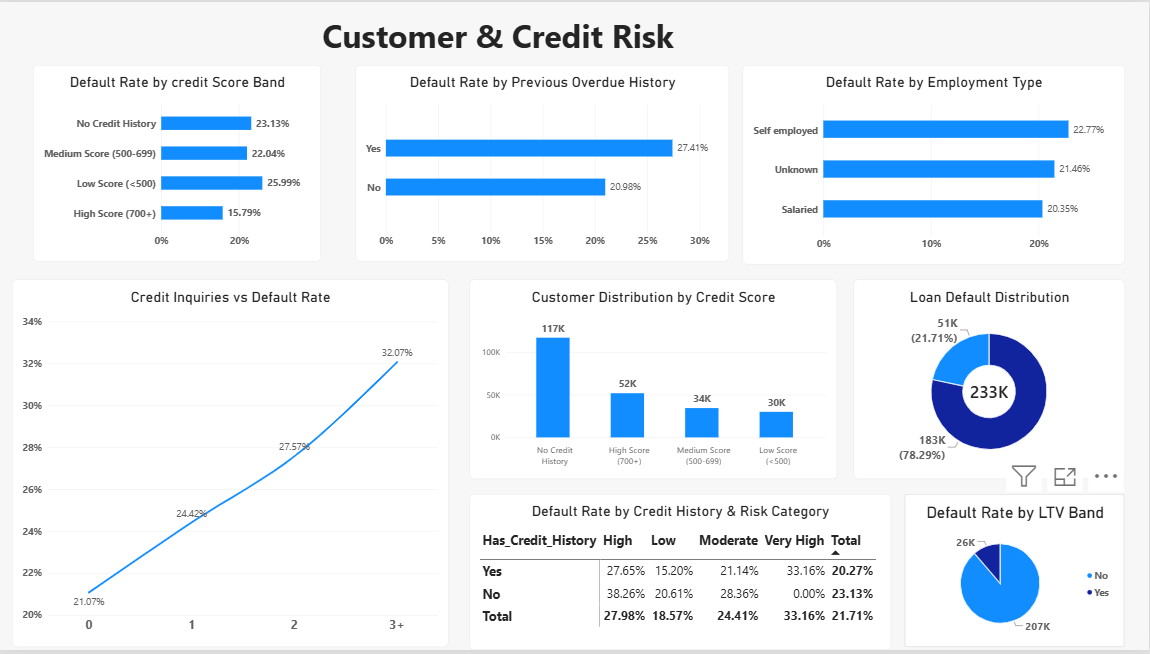

What the dashboard file says about the page in this screenshot:
{"tool":"powerbi","page":{"name":"Customer & Credit Risk","canvas":[1920,1080],"ordinal":1},"visuals":[{"type":"textbox","box":[82.5,20,1505,85],"z":0},{"type":"clusteredBarChart","title":"Default Rate by credit Score Band","fields":{"Category":["vehicle_loan_analysis.Credit Score Band"],"Y":["vehicle_loan_analysis.Default Rate"]},"box":[60,105,480,327.5],"z":1000},{"type":"clusteredBarChart","title":"Default Rate by Previous Overdue History","fields":{"Category":["vehicle_loan_analysis.Has_Previous_Overdue"],"Y":["vehicle_loan_analysis.Default Rate"]},"box":[597.5,105,622.5,327.5],"z":2000},{"type":"pivotTable","title":"Default Rate by Credit History & Risk Category","fields":{"Columns":["vehicle_loan_analysis.Risk_Category"],"Rows":["vehicle_loan_analysis.Has_Credit_History"],"Values":["vehicle_loan_analysis.Default Rate"]},"box":[787.5,820,702.5,260],"z":3000},{"type":"lineChart","title":"Credit Inquiries vs Default Rate","fields":{"Category":["vehicle_loan_analysis.Credit Inquiry Band"],"Y":["vehicle_loan_analysis.Default Rate"]},"box":[25,462.5,727.5,612.5],"z":4000},{"type":"clusteredBarChart","title":"Default Rate by Employment Type","fields":{"Category":["vehicle_loan_analysis.Employment.Type"],"Y":["vehicle_loan_analysis.Default Rate"]},"box":[1242.5,105,637.5,332.5],"z":5000},{"type":"donutChart","title":"Loan Default Distribution","fields":{"Category":["vehicle_loan_analysis.loan_default"],"Y":["vehicle_loan_analysis.Total Loans"]},"box":[1427.5,462.5,452.5,332.5],"z":6000},{"type":"columnChart","title":"Customer Distribution by Credit Score","fields":{"Category":["vehicle_loan_analysis.Credit Score Band"],"Y":["vehicle_loan_analysis.Total Loans"]},"box":[787.5,462.5,612.5,332.5],"z":7000},{"type":"pieChart","title":"Previous Overdue No/Yes","fields":{"Category":["vehicle_loan_analysis.Has_Previous_Overdue"],"Y":["vehicle_loan_analysis.Total Loans"]},"box":[1512.5,820,367.5,255],"z":8000}]}

Visuals, with their boxes in screenshot pixels (x1, y1, x2, y2), scaled from the page's 1920x1080 canvas onto the 1150x654 screenshot:
textbox: detection(49, 12, 951, 64)
"Default Rate by credit Score Band" clusteredBarChart: detection(36, 64, 323, 262)
"Default Rate by Previous Overdue History" clusteredBarChart: detection(358, 64, 731, 262)
"Default Rate by Credit History & Risk Category" pivotTable: detection(472, 497, 892, 653)
"Credit Inquiries vs Default Rate" lineChart: detection(15, 280, 451, 651)
"Default Rate by Employment Type" clusteredBarChart: detection(744, 64, 1126, 265)
"Loan Default Distribution" donutChart: detection(855, 280, 1126, 481)
"Customer Distribution by Credit Score" columnChart: detection(472, 280, 839, 481)
"Previous Overdue No/Yes" pieChart: detection(906, 497, 1126, 651)
